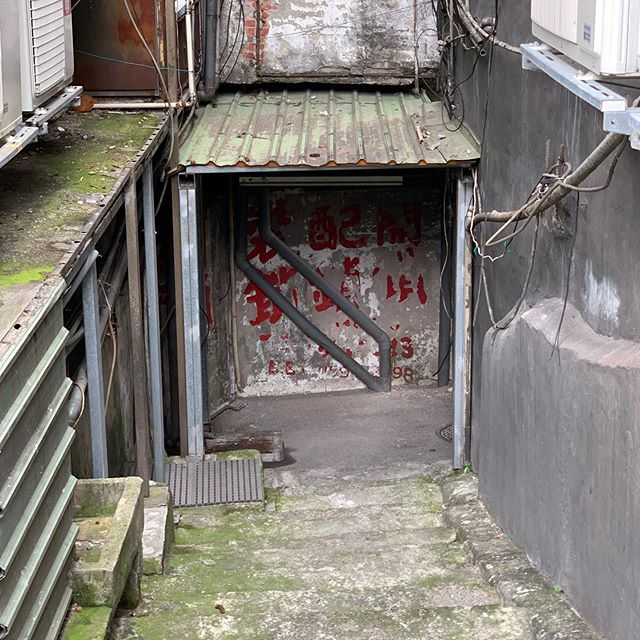building: (1, 1, 617, 607)
graffiti: (238, 187, 442, 389)
